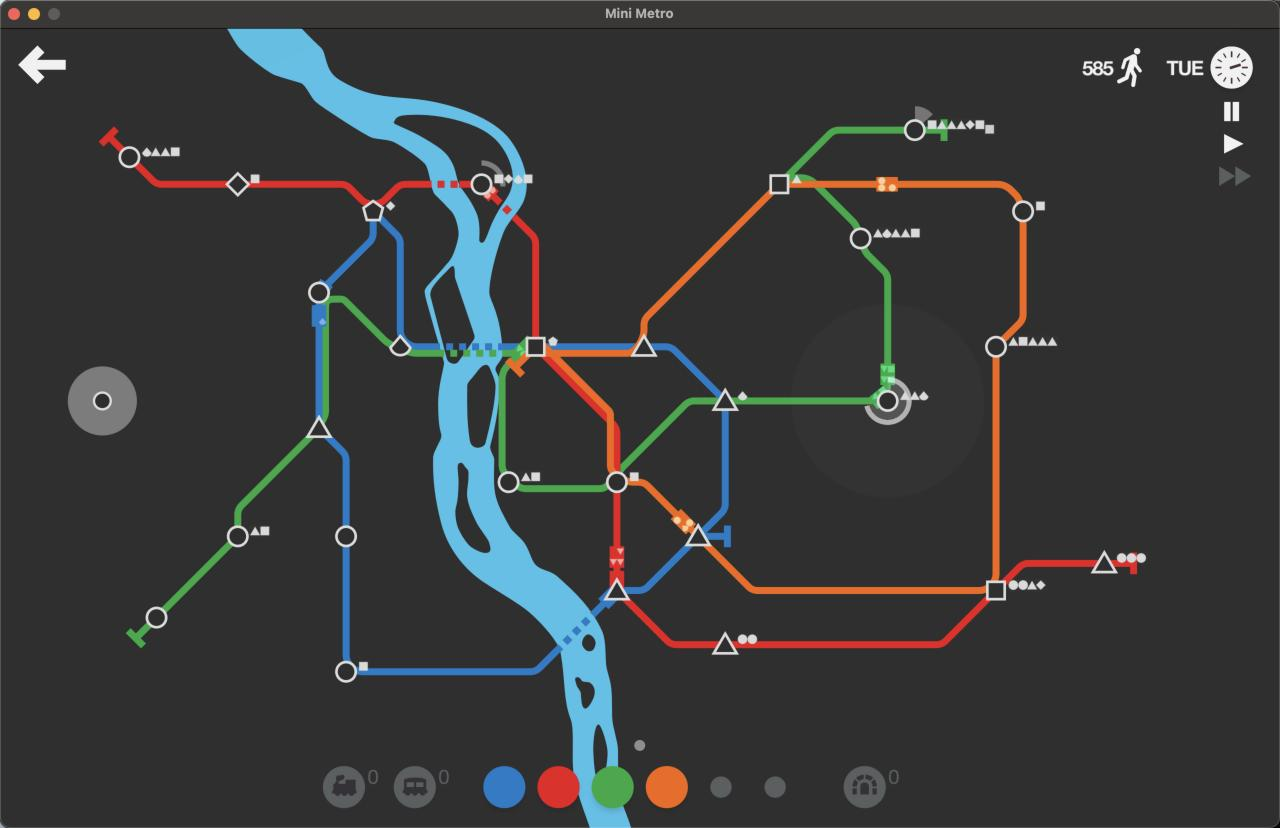CIRCLE: (984, 334, 1008, 359), (875, 389, 900, 413), (903, 118, 927, 142), (118, 145, 141, 169), (470, 172, 493, 196), (334, 660, 357, 684), (848, 227, 872, 250), (307, 281, 330, 304), (227, 524, 249, 548), (146, 606, 168, 629), (1012, 200, 1035, 222), (497, 471, 519, 494), (606, 470, 629, 492), (335, 525, 357, 548), (93, 392, 112, 410)
GEM: (225, 171, 250, 197)
PENTAGON: (362, 200, 384, 221)
SQUARE: (769, 173, 791, 195), (524, 336, 547, 357), (986, 580, 1007, 602)
TRIANGLE: (711, 631, 739, 657), (1090, 549, 1119, 574), (684, 522, 711, 547), (712, 387, 738, 412), (306, 416, 332, 439), (631, 334, 657, 357), (605, 578, 630, 601)
WEDGE: (389, 335, 412, 357)
